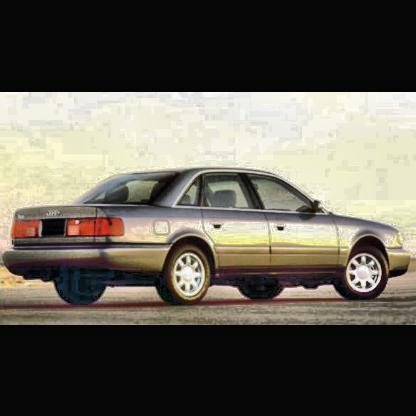Audi V8 Sedan 1994: (6, 168, 410, 306)
